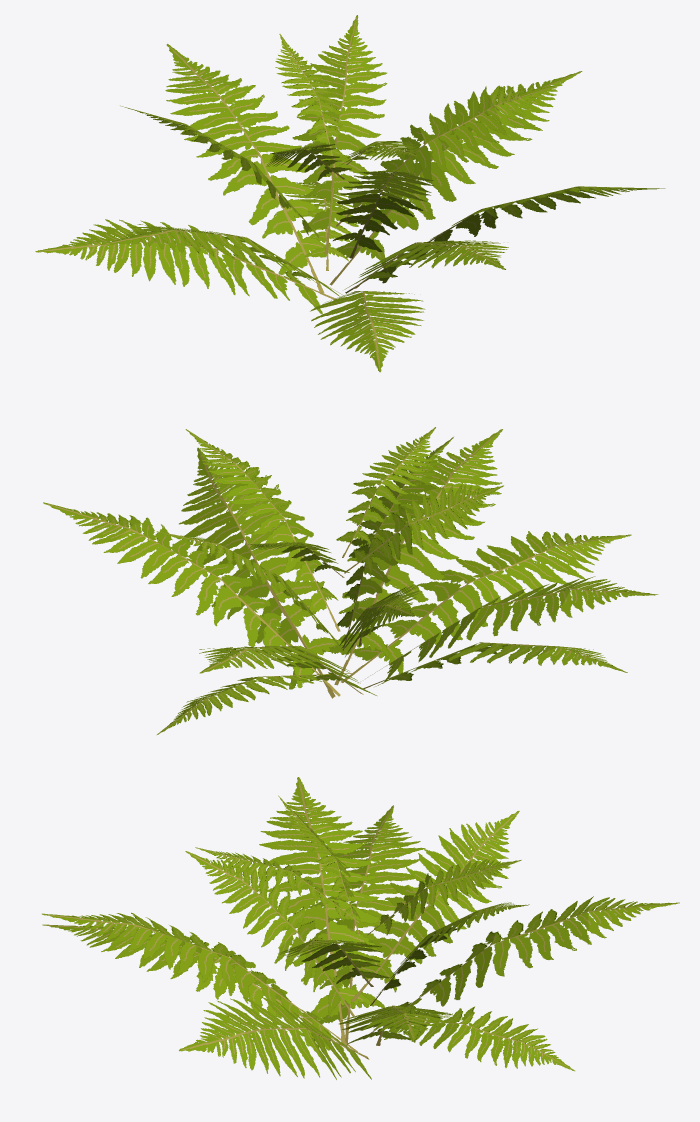
The model's file is Fern.fbx.
The picture shows the model from 3 angles, top to bottom: view 1: azimuth 30°, elevation 25°; view 2: azimuth 150°, elevation 25°; view 3: azimuth 270°, elevation 25°; orthographic projection. The views are drawn at different scales.
Parts seen in each view (by area): view 1: fern.002; view 2: fern.002; view 3: fern.002.
Boxes of the visible parts, left/top/right/bottom form: fern.002: left=35, top=15, right=665, bottom=372; fern.002: left=43, top=427, right=658, bottom=734; fern.002: left=42, top=777, right=679, bottom=1079.
Bounding box in the file's own units: 214 × 85.89 × 212.
